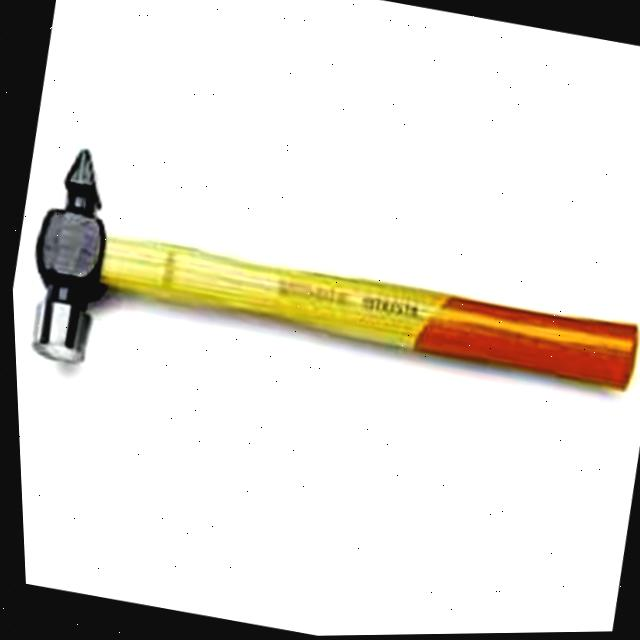hammer: (4, 114, 640, 508)
